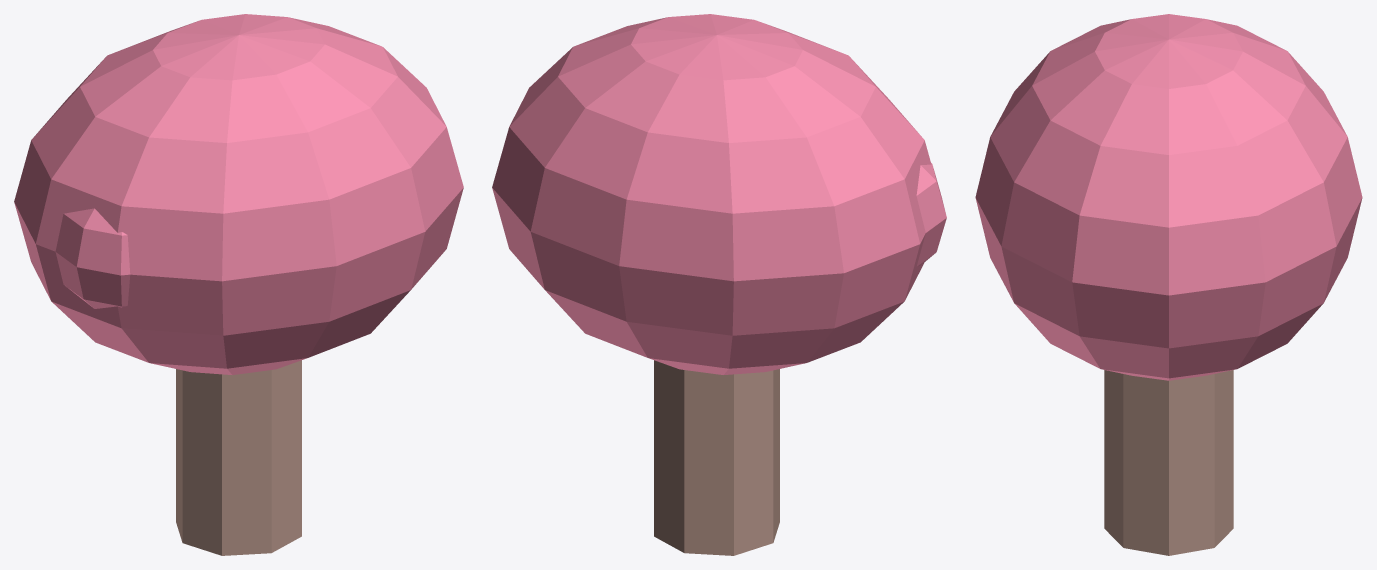
Rendered from item_boxing.glb.
3 renders of one model, left to right at view 1: azimuth 30°, elevation 25°; view 2: azimuth 150°, elevation 25°; view 3: azimuth 270°, elevation 25°, orthographic.
Parts seen in each view (by area): view 1: item_boxing; view 2: item_boxing; view 3: item_boxing.
Part boxes in pixels (x1,y1,x2,y2): item_boxing: (14, 14, 463, 555); item_boxing: (492, 14, 946, 555); item_boxing: (975, 14, 1362, 555).
Bounding box in the file's own units: 1.08 × 1.25 × 0.9.
